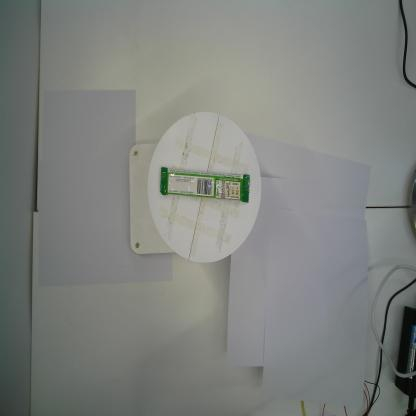Chocolate: (160, 166, 251, 205)
